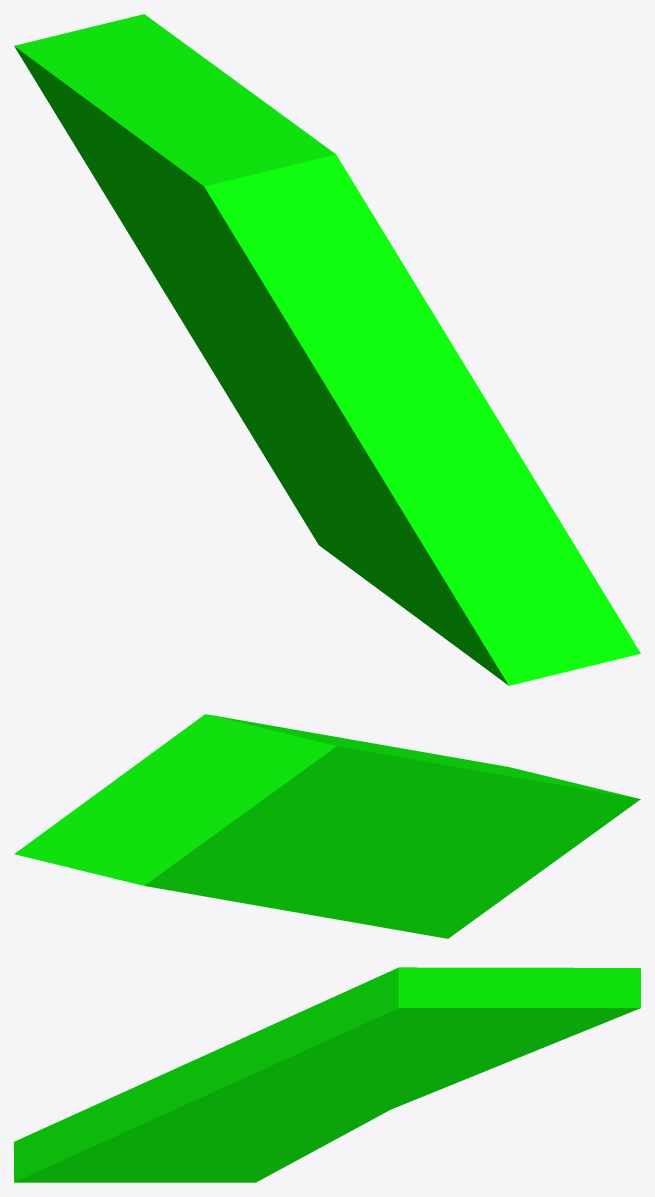
The model's file is SM_Roof_Moderate_Truss_Wood_2x1m.fbx.
3 views of the same model, one above another, from view 1: azimuth 30°, elevation 25°; view 2: azimuth 150°, elevation 25°; view 3: azimuth 270°, elevation 25° (orthographic). The views are drawn at different scales.
Parts seen in each view (by area): view 1: roof-moderate-truss-wood-2x1m; view 2: roof-moderate-truss-wood-2x1m; view 3: roof-moderate-truss-wood-2x1m.
Boxes of the visible parts, x1,y1,x2,y2 form: roof-moderate-truss-wood-2x1m: (14,14,640,685); roof-moderate-truss-wood-2x1m: (14,714,640,938); roof-moderate-truss-wood-2x1m: (14,967,640,1182).
Bounding box in the file's own units: 0.25 × 0.5001 × 1.63.
